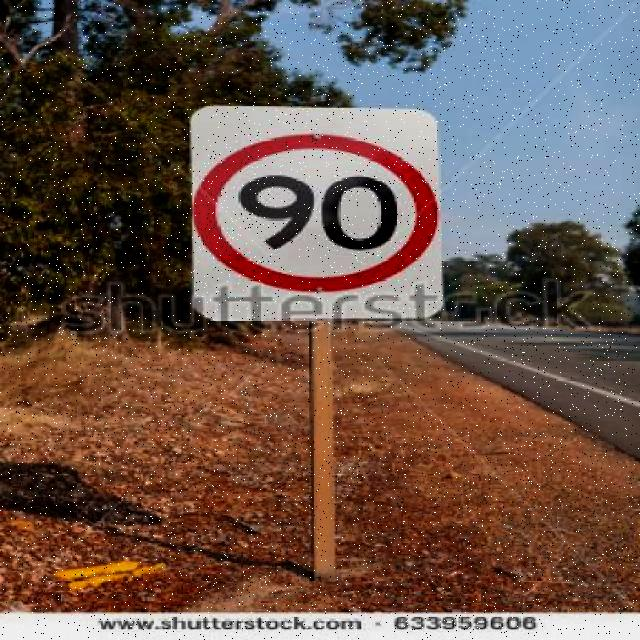Ograniczenie predkosci do 90: (196, 130, 435, 288)
